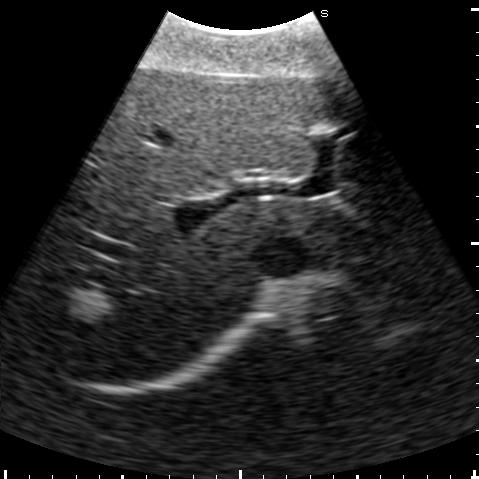IVC: (255, 239, 311, 278)
S1: (309, 212, 372, 262)
S2: (341, 188, 430, 229)
S3: (313, 75, 413, 198)
S4: (88, 70, 336, 197)
Tumor: (68, 288, 109, 322), (309, 121, 336, 137)
